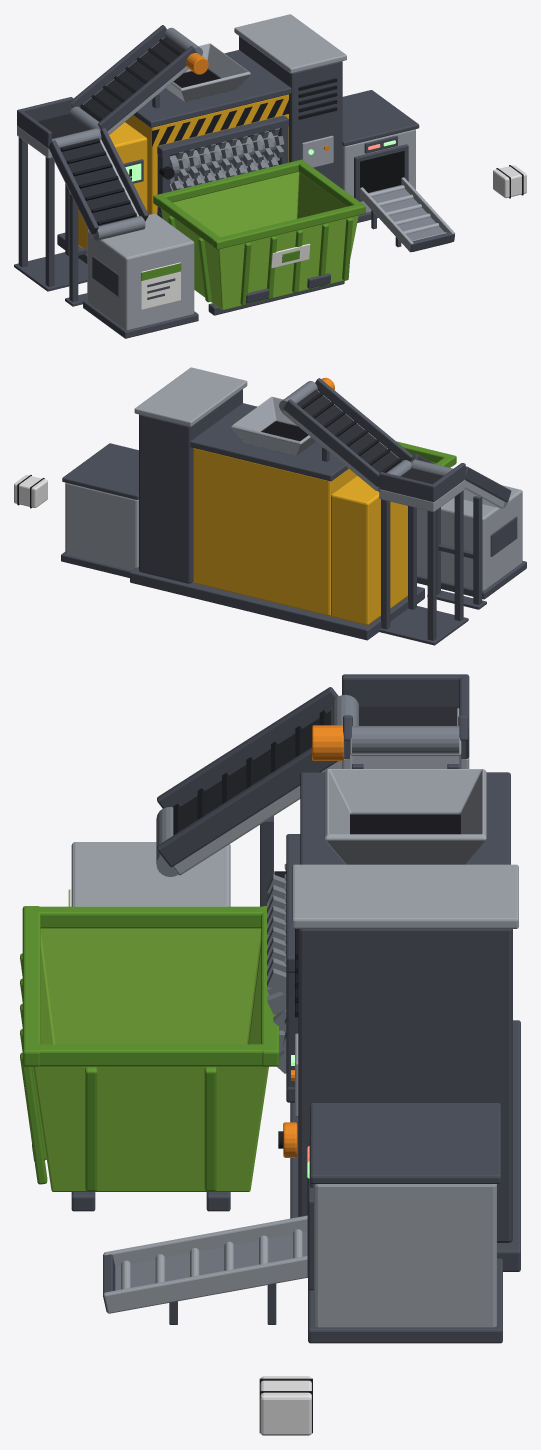
Rendered from Recicladora.fbx.
3 renders of one model, top to bottom at view 1: azimuth 30°, elevation 25°; view 2: azimuth 150°, elevation 25°; view 3: azimuth 270°, elevation 25°, orthographic. The views are drawn at different scales.
Parts seen in each view (by area): view 1: Trituradora_GrisOscuro, Trituradora_GrisClaro, Contenedor_Verde, Contenedor_VerdeOscuro, Trituradora_Amarillo, Rodillo_Sup, Banda_Tramo1, Trituradora_Negro, Banda_Tramo2, Trituradora_Cavidad, Trituradora_Acero, Listones_Tramo1 (+10 smaller); view 2: Trituradora_GrisOscuro, Trituradora_Amarillo, Trituradora_GrisClaro, Banda_Tramo2, Bloque_Bloque, Listones_Tramo2, Contenedor_VerdeOscuro, Trituradora_Cavidad, RodilloCinta_2B, RodilloCinta_1B, Banda_Esquina; view 3: Trituradora_GrisOscuro, Trituradora_GrisClaro, Contenedor_Verde, Contenedor_VerdeOscuro, Trituradora_Acero, RodilloCinta_2B, Bloque_Bloque, Rodillo_Sup, Banda_Tramo1, Trituradora_Cavidad, Banda_Esquina, Trituradora_Naranja (+3 smaller).
Part boxes in pixels (x1,y1,x2,y2): Trituradora_GrisOscuro: (14,25,454,338); Trituradora_GrisClaro: (17,14,455,329); Contenedor_Verde: (161,171,358,310); Contenedor_VerdeOscuro: (153,159,365,305); Trituradora_Amarillo: (78,94,288,248); Rodillo_Sup: (170,128,284,184); Banda_Tramo1: (59,138,137,226); Trituradora_Negro: (129,78,337,179); Banda_Tramo2: (80,36,185,121); Trituradora_Cavidad: (170,69,404,192); Trituradora_Acero: (368,185,451,251); Listones_Tramo1: (60,139,136,225); Trituradora_GrisOscuro: (61,378,526,645); Trituradora_Amarillo: (193,448,407,625); Trituradora_GrisClaro: (65,367,522,590); Banda_Tramo2: (296,390,402,472); Bloque_Bloque: (14,475,47,507); Listones_Tramo2: (300,392,402,472); Contenedor_VerdeOscuro: (396,441,456,467); Trituradora_Cavidad: (261,421,308,441); RodilloCinta_2B: (279,381,317,411); RodilloCinta_1B: (411,459,452,475); Banda_Esquina: (400,468,442,484); Trituradora_GrisOscuro: (103,674,520,1343); Trituradora_GrisClaro: (71,708,518,1327); Contenedor_Verde: (33,928,268,1191); Contenedor_VerdeOscuro: (20,906,279,1191); Trituradora_Acero: (115,1232,307,1290); RodilloCinta_2B: (352,726,459,753); Bloque_Bloque: (260,1376,311,1435); Rodillo_Sup: (267,864,286,1025); Banda_Tramo1: (180,711,331,830); Trituradora_Cavidad: (307,814,460,1277); Banda_Esquina: (359,706,457,725); Trituradora_Naranja: (283,725,343,1157).
Bounding box in the file's own units: 26.75 × 11.54 × 12.59.
